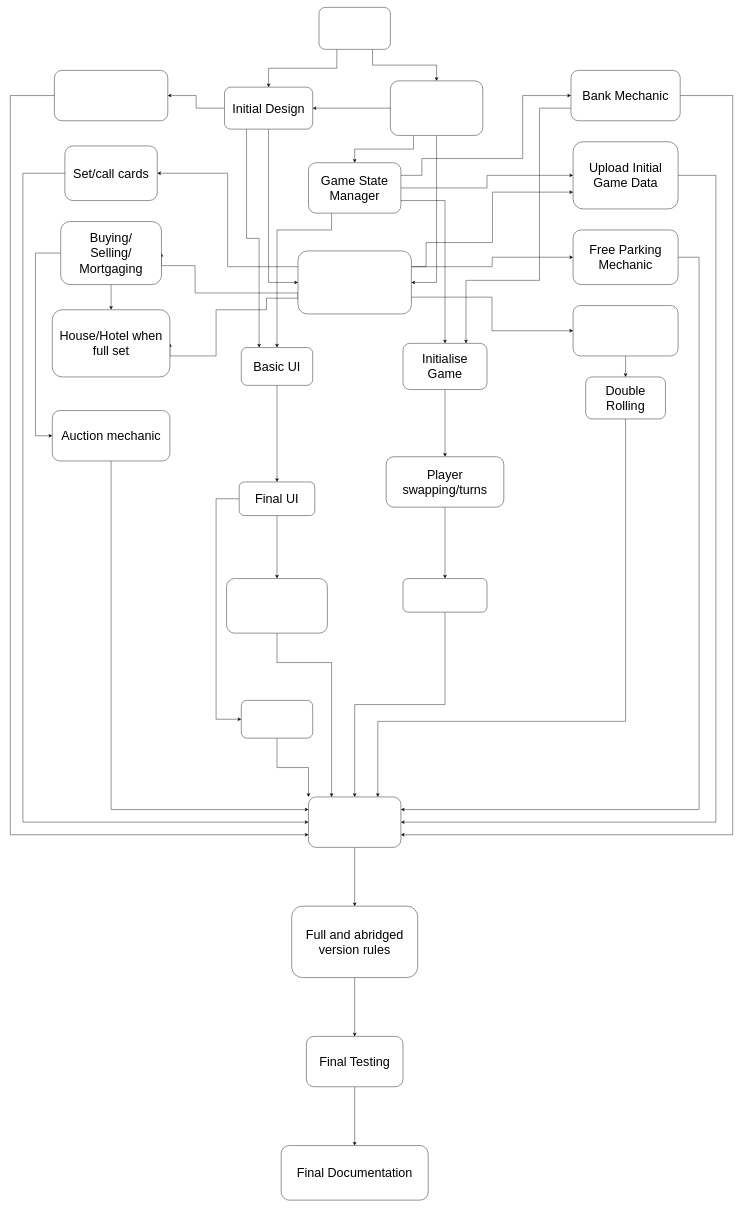
Some shapes in this 743 by 1208 pixel diagram are drawn without their labels. Each missing label, with the centre of its shape:
"Basic AI" belongs at pixel 445 595.
"Beta versions" belongs at pixel 354 822.
"Final board/token design" belongs at pixel 111 95.
"First Working Prototype" belongs at pixel 436 107.
"Jail Mechanic" belongs at pixel 625 330.
"Menus" belongs at pixel 277 719.
"Monitor player performance" belongs at pixel 276 605.
"Project Planning" belongs at pixel 354 28.
"Set/call board space properties" belongs at pixel 354 282.
